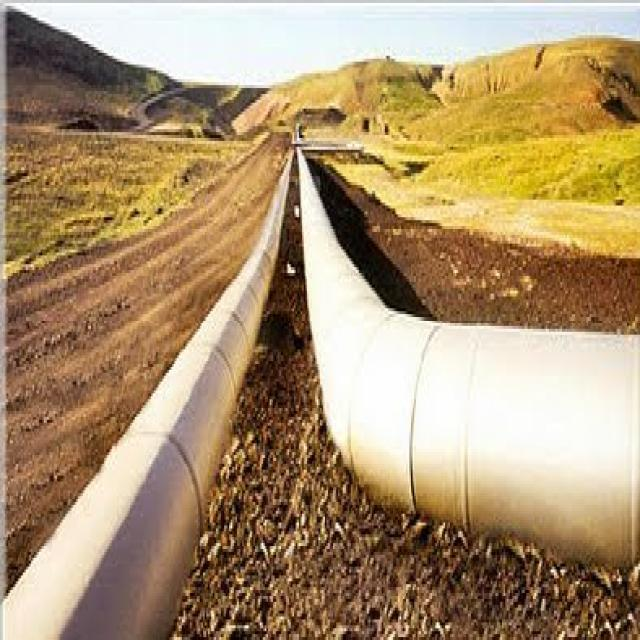gas: (2, 152, 294, 639), (297, 152, 639, 563)
